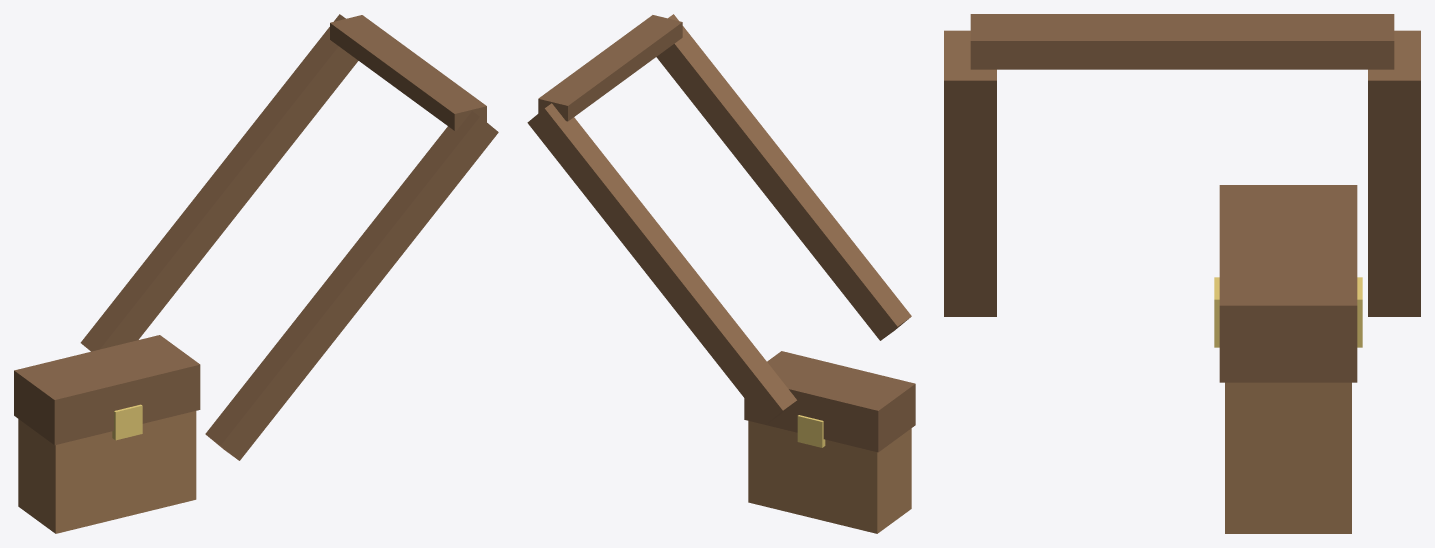
File: bolsa_carteiro.glb
The picture shows the model from 3 angles, left to right: view 1: azimuth 30°, elevation 25°; view 2: azimuth 150°, elevation 25°; view 3: azimuth 270°, elevation 25°; orthographic projection. The views are drawn at different scales.
Parts seen in each view (by area): view 1: bolsa_carteiro; view 2: bolsa_carteiro; view 3: bolsa_carteiro.
Part boxes in pixels (<box>): bolsa_carteiro: <box>14,14,498,533</box>; bolsa_carteiro: <box>527,14,915,533</box>; bolsa_carteiro: <box>944,14,1420,533</box>.
Bounding box in the file's own units: 0.6725 × 0.7 × 0.45.
